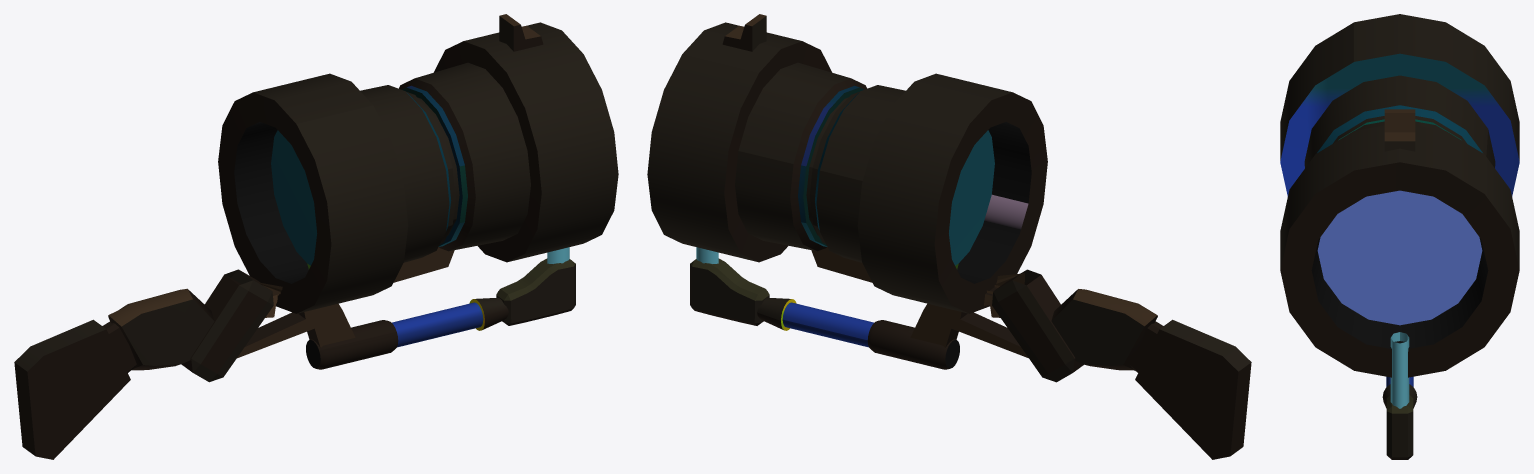
File: GunVacuumCleaner.fbx
3 renders of one model, left to right at view 1: azimuth 30°, elevation 25°; view 2: azimuth 150°, elevation 25°; view 3: azimuth 270°, elevation 25°, orthographic. The views are drawn at different scales.
Parts seen in each view (by area): view 1: g_polySurface21; view 2: g_polySurface21; view 3: g_polySurface21.
Boxes of the visible parts, x1=… form: g_polySurface21: x1=14, y1=14, x2=618, y2=459; g_polySurface21: x1=647, y1=14, x2=1251, y2=459; g_polySurface21: x1=1280, y1=14, x2=1519, y2=459.
Bounding box in the file's own units: 1.87 × 1.04 × 0.6649.
